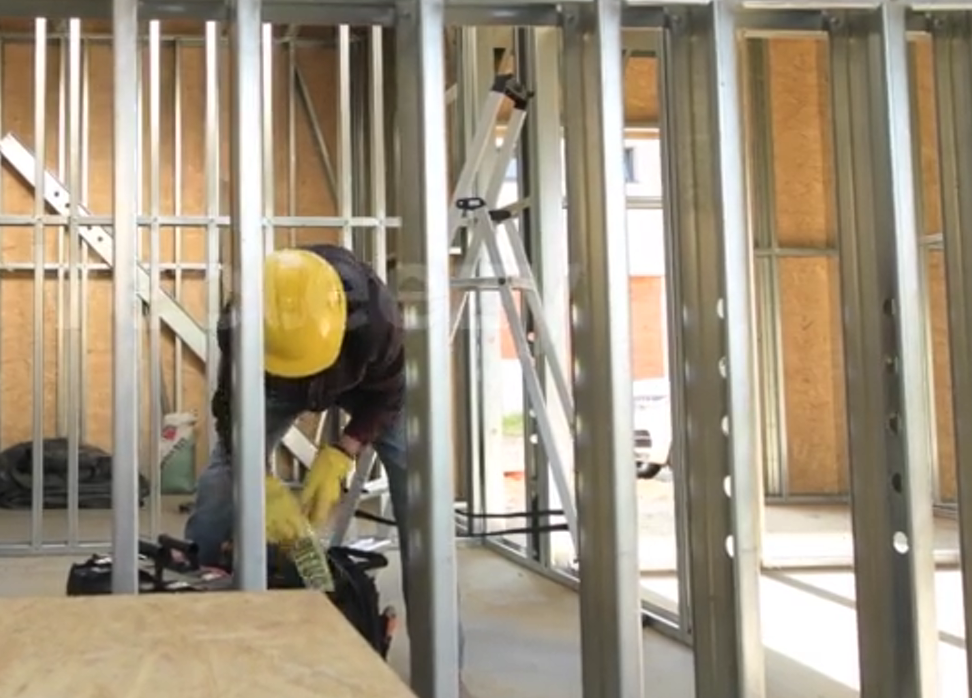safety_helmet: (260, 246, 348, 379)
